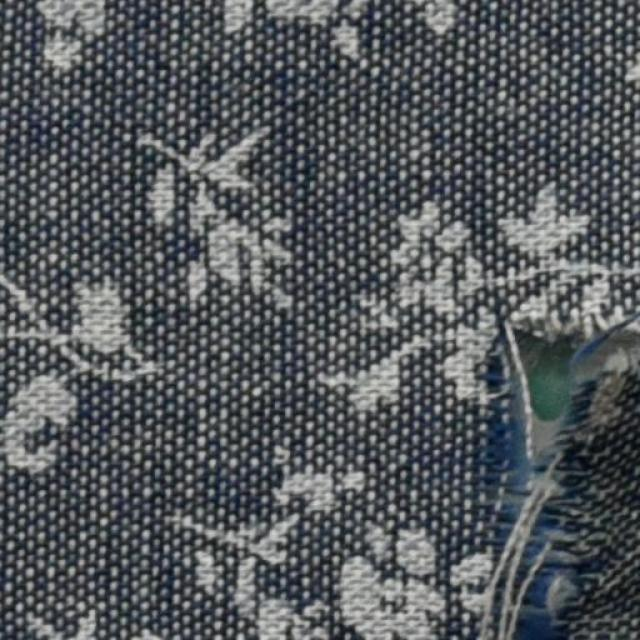Hole: (486, 335, 623, 527)
Snag: (478, 398, 590, 637)
